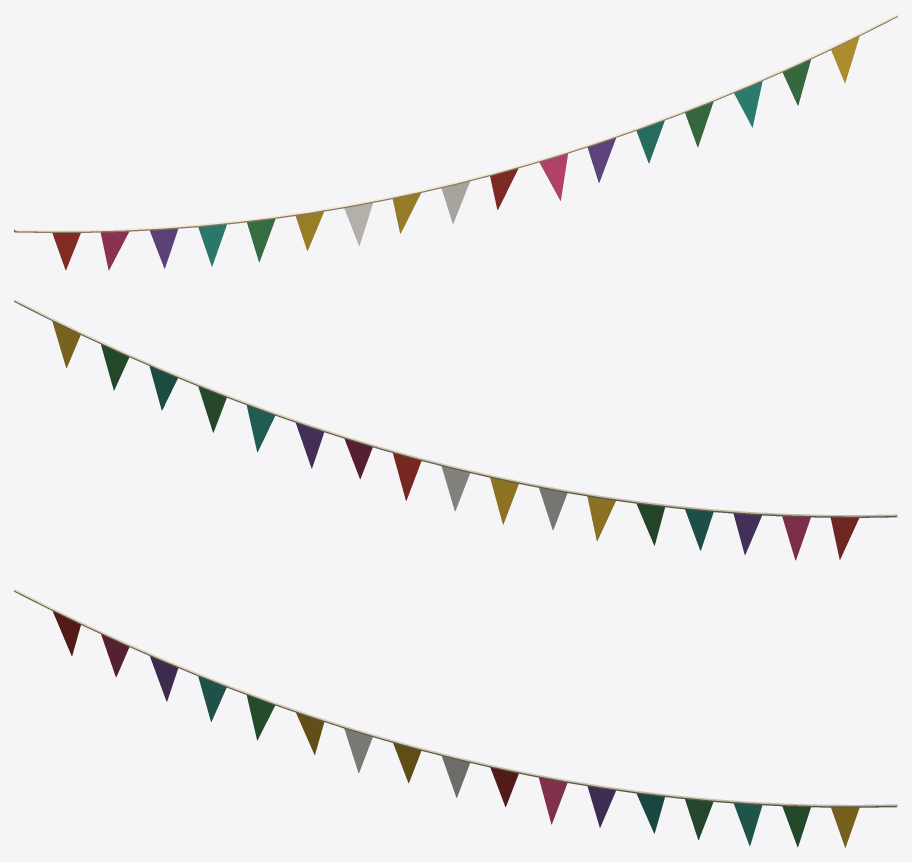
File: prop_banderitas_8m.glb
The picture shows the model from 3 angles, top to bottom: view 1: azimuth 30°, elevation 25°; view 2: azimuth 150°, elevation 25°; view 3: azimuth 330°, elevation 25°; orthographic projection.
Visible parts, largest first — view 1: prop_banderitas_8m; view 2: prop_banderitas_8m; view 3: prop_banderitas_8m.
Boxes of the visible parts, bbox=[...] form: prop_banderitas_8m: bbox=[14, 14, 897, 269]; prop_banderitas_8m: bbox=[14, 299, 897, 560]; prop_banderitas_8m: bbox=[14, 589, 897, 847].
Size of the model in its own units: 8 by 0.8916 by 0.1442.
